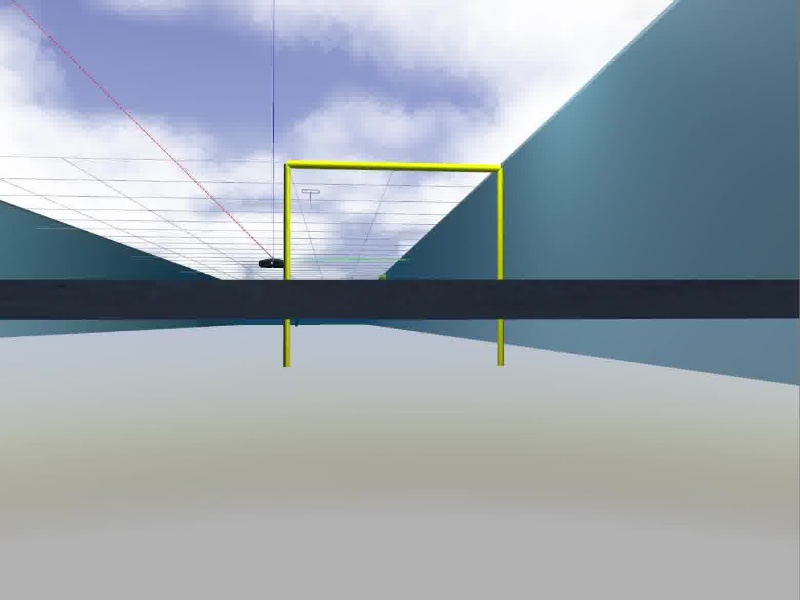gate: (284, 159, 504, 368)
